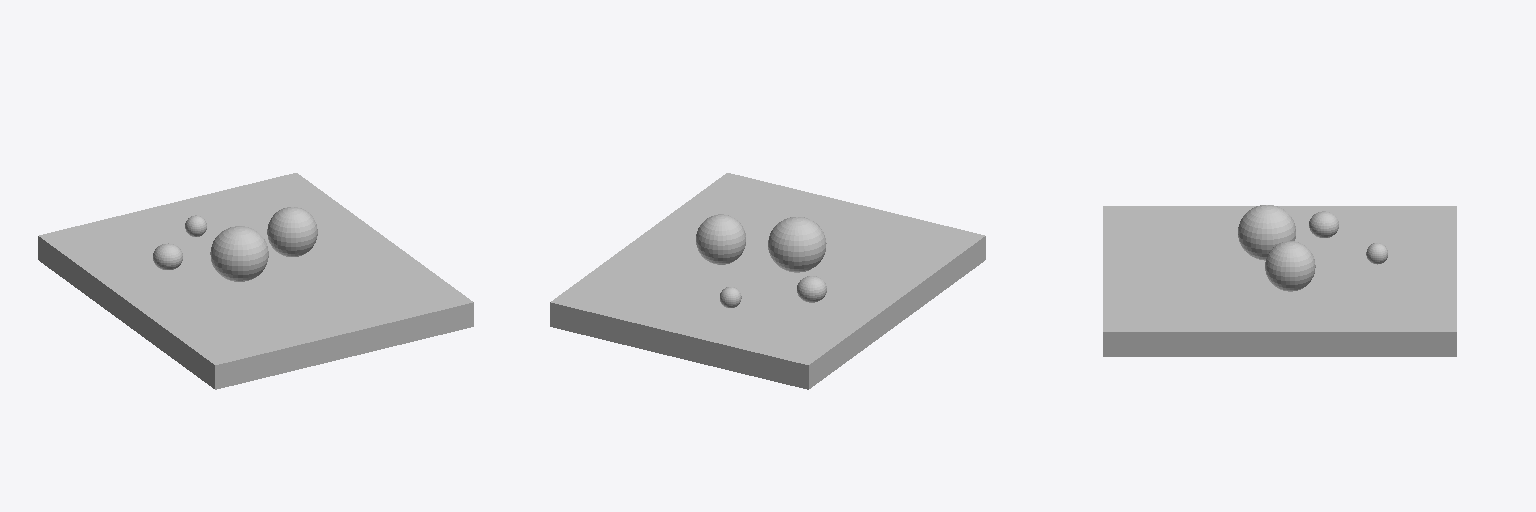
The model's file is balls3.obj.
3 views of the same model, side by side, from view 1: azimuth 30°, elevation 25°; view 2: azimuth 150°, elevation 25°; view 3: azimuth 270°, elevation 25° (orthographic).
Visible parts, largest first — view 1: Cube_Mesh, Sphere.001_Mesh, Sphere_Mesh, Sphere.003_Mesh; view 2: Cube_Mesh, Sphere.001_Mesh, Sphere_Mesh, Sphere.003_Mesh; view 3: Cube_Mesh, Sphere.001_Mesh, Sphere_Mesh, Sphere.003_Mesh.
Part boxes in pixels (left/top/right/bottom): Cube_Mesh: left=38, top=173, right=473, bottom=389; Sphere.001_Mesh: left=210, top=226, right=268, bottom=281; Sphere_Mesh: left=267, top=207, right=317, bottom=256; Sphere.003_Mesh: left=153, top=243, right=182, bottom=269; Cube_Mesh: left=550, top=173, right=985, bottom=389; Sphere.001_Mesh: left=768, top=217, right=826, bottom=272; Sphere_Mesh: left=696, top=214, right=745, bottom=264; Sphere.003_Mesh: left=797, top=276, right=826, bottom=302; Cube_Mesh: left=1103, top=206, right=1456, bottom=356; Sphere.001_Mesh: left=1238, top=205, right=1295, bottom=260; Sphere_Mesh: left=1265, top=241, right=1315, bottom=291; Sphere.003_Mesh: left=1309, top=211, right=1338, bottom=237.
Bounding box in the file's own units: 22.13 × 6.13 × 26.29.